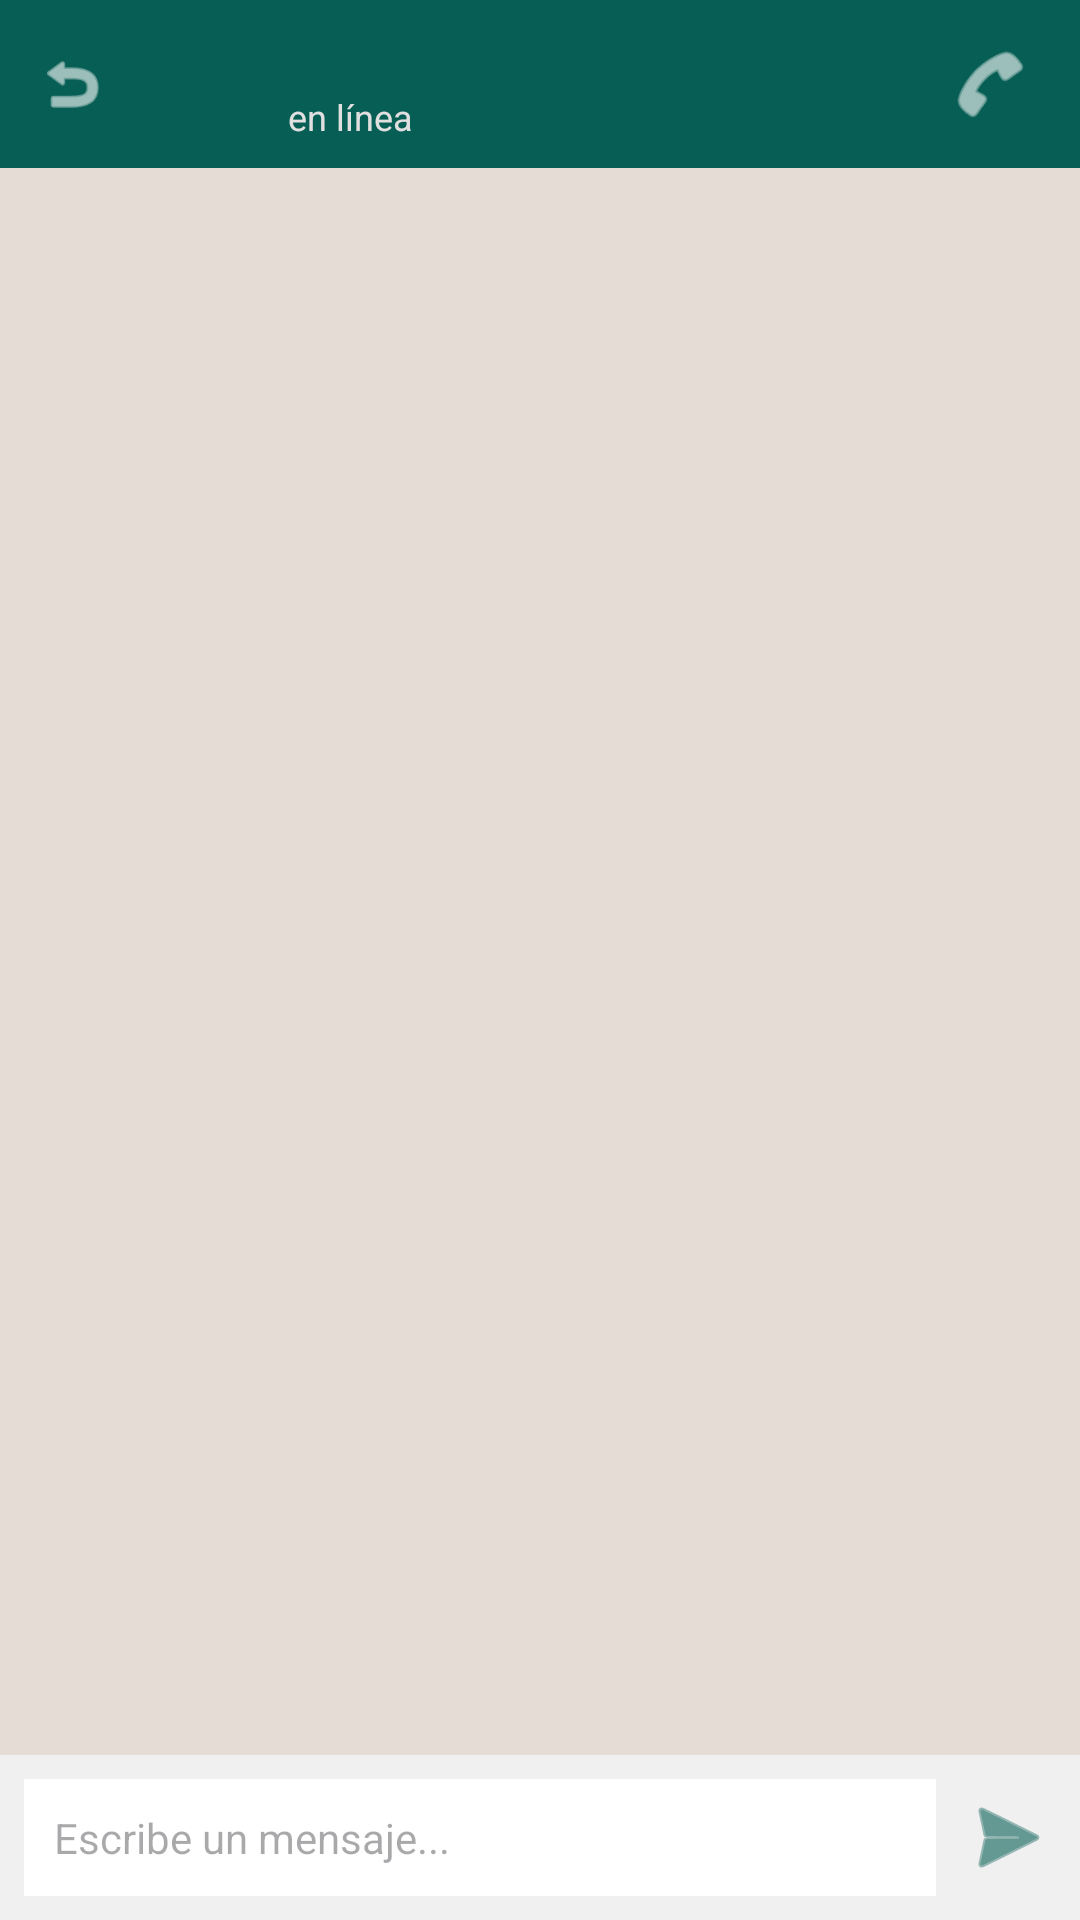

Named icons in this screenshot (1080 × 1920) and their centers, (x=x, y=y):
Enviar: (x=1009, y=1837)
Llamada: (x=990, y=84)
Regresar: (x=73, y=84)
